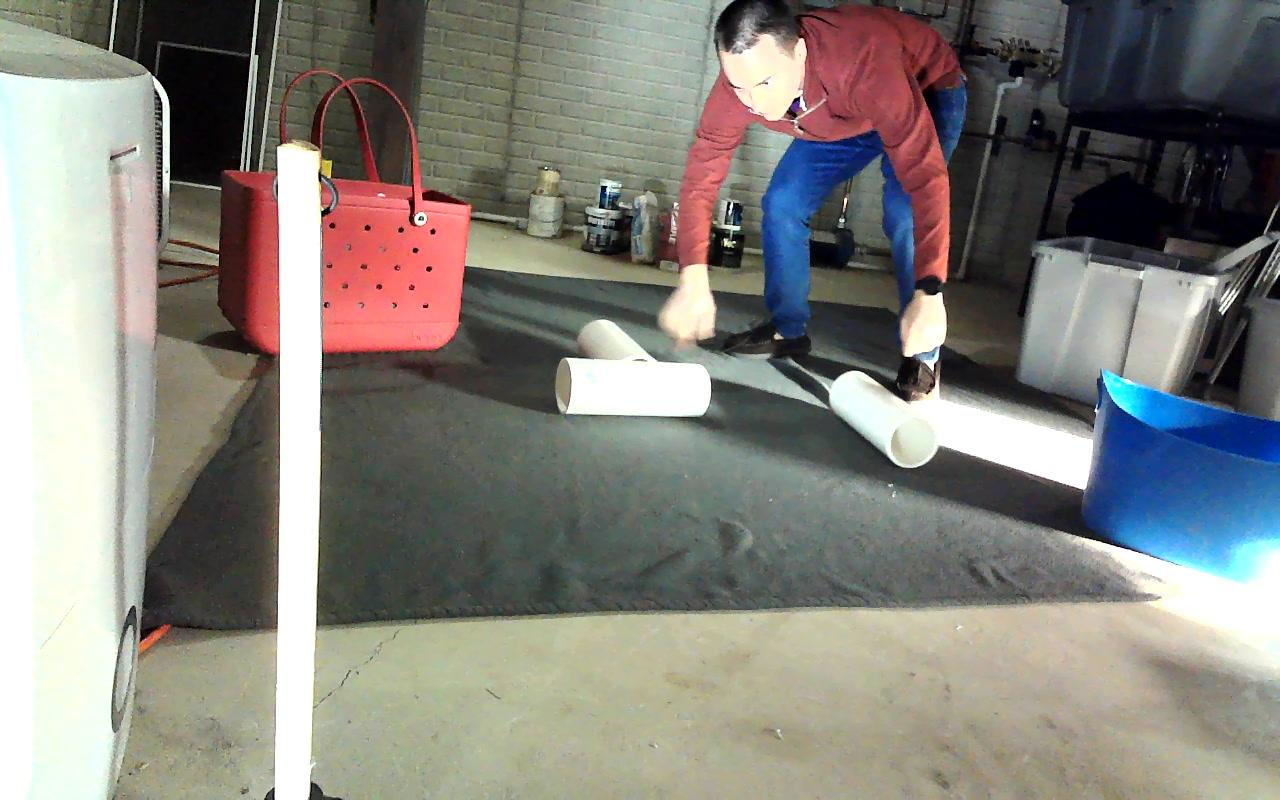coral: (829, 369, 940, 467), (555, 355, 710, 417), (574, 320, 656, 380)
